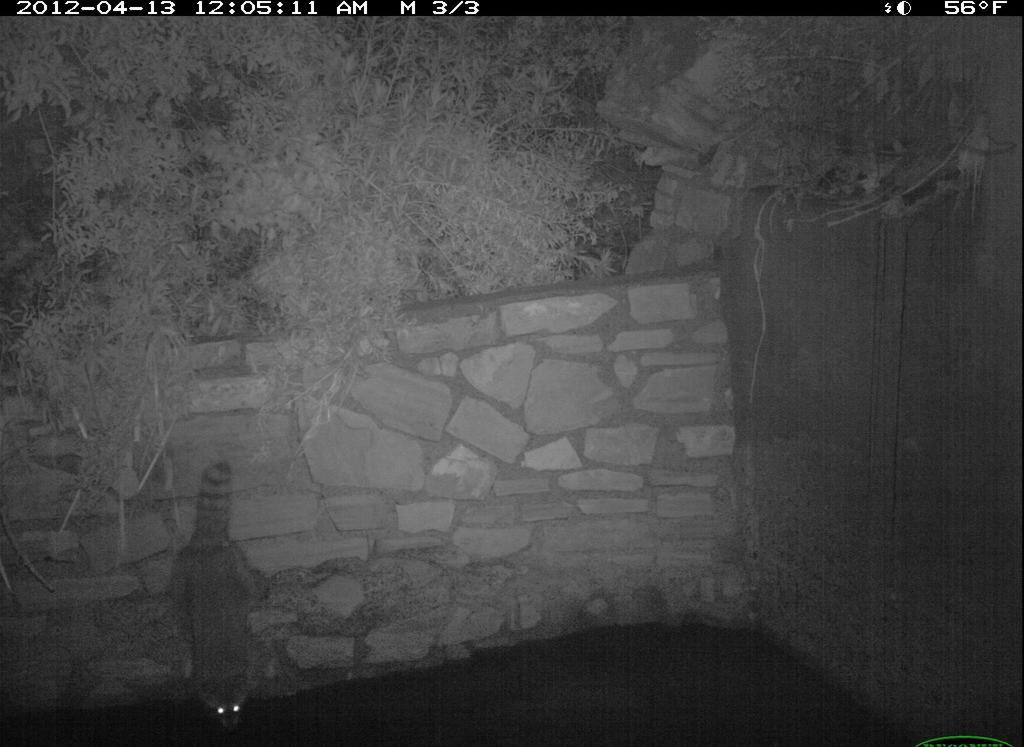raccoon: (155, 459, 289, 735)
